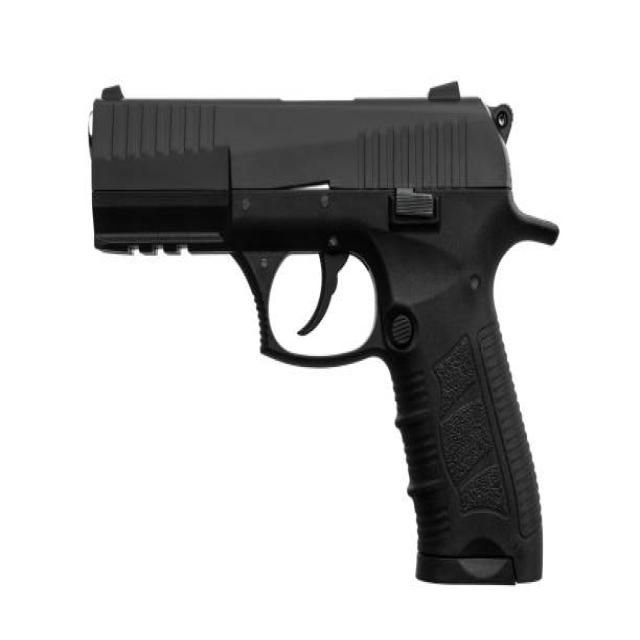pistol: (75, 73, 564, 599)
